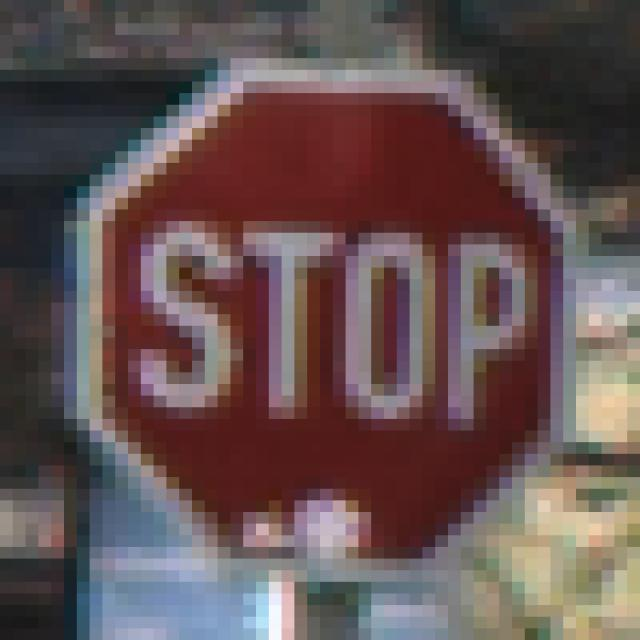STOP: (65, 59, 577, 583)
